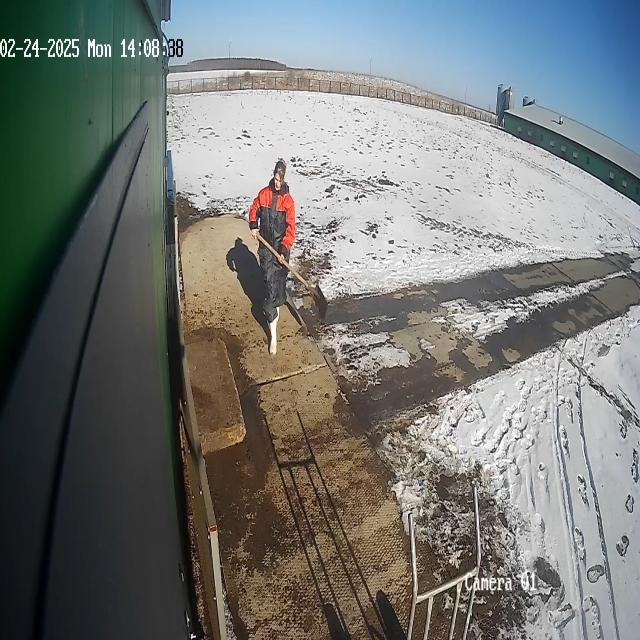Red uniform: (248, 180, 296, 324)
